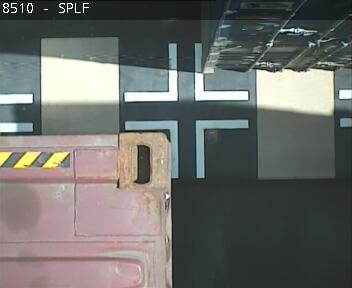groundmarker_1: (122, 43, 251, 102), (124, 120, 249, 179)
